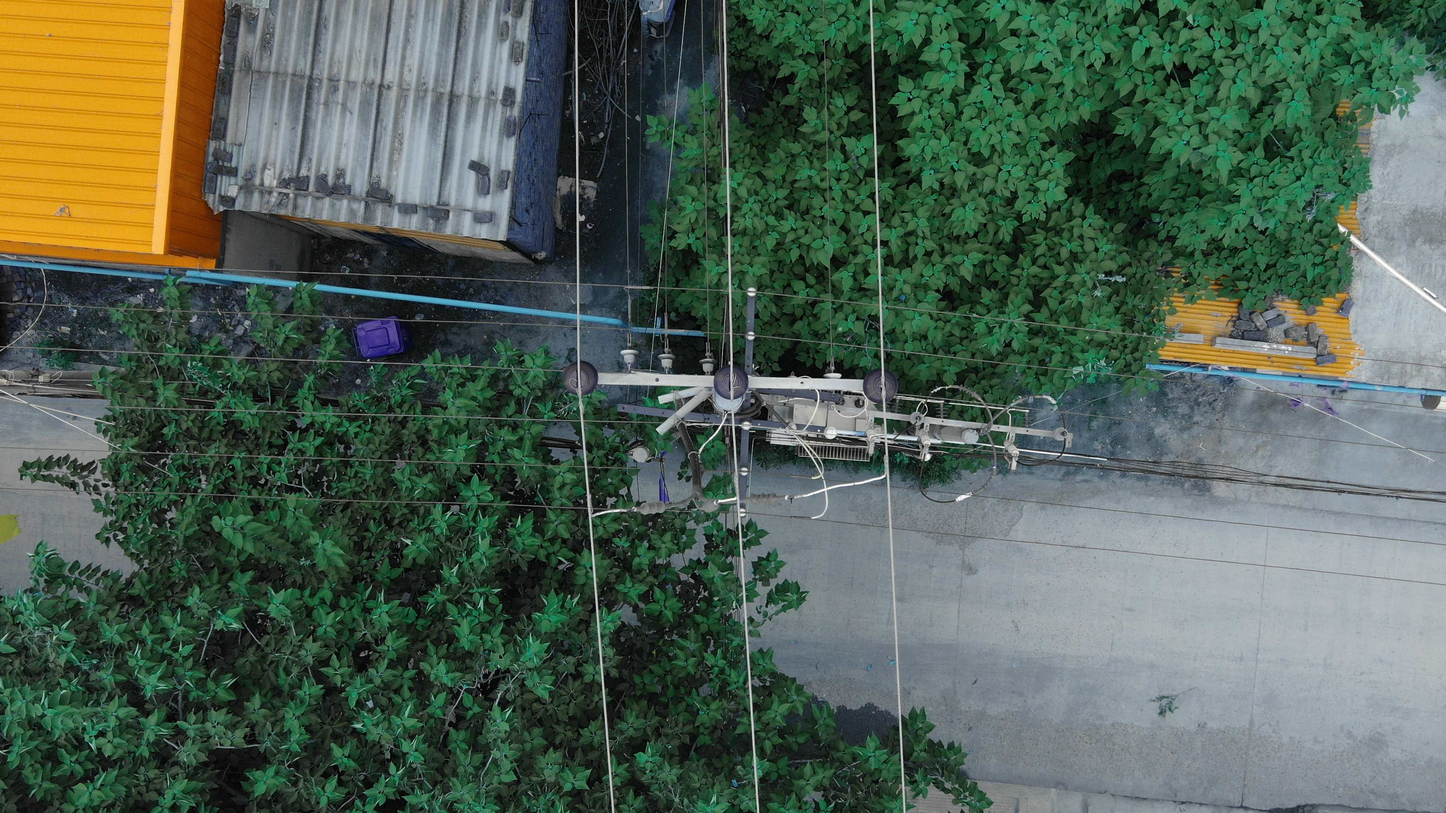severe_soiling_no_discharge_whole: (698, 356, 719, 373), (656, 353, 677, 370)
